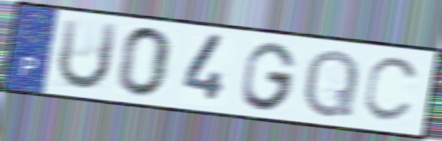0: (113, 26, 180, 100)
4: (180, 31, 232, 109)
C: (360, 56, 424, 126)
G: (239, 40, 300, 113)
Q: (300, 46, 363, 120)
U: (53, 17, 121, 93)
